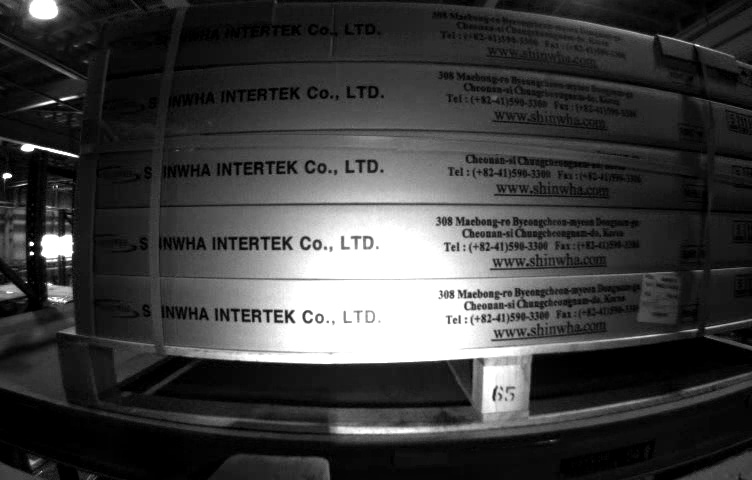True Barcode: (639, 272, 682, 329)
